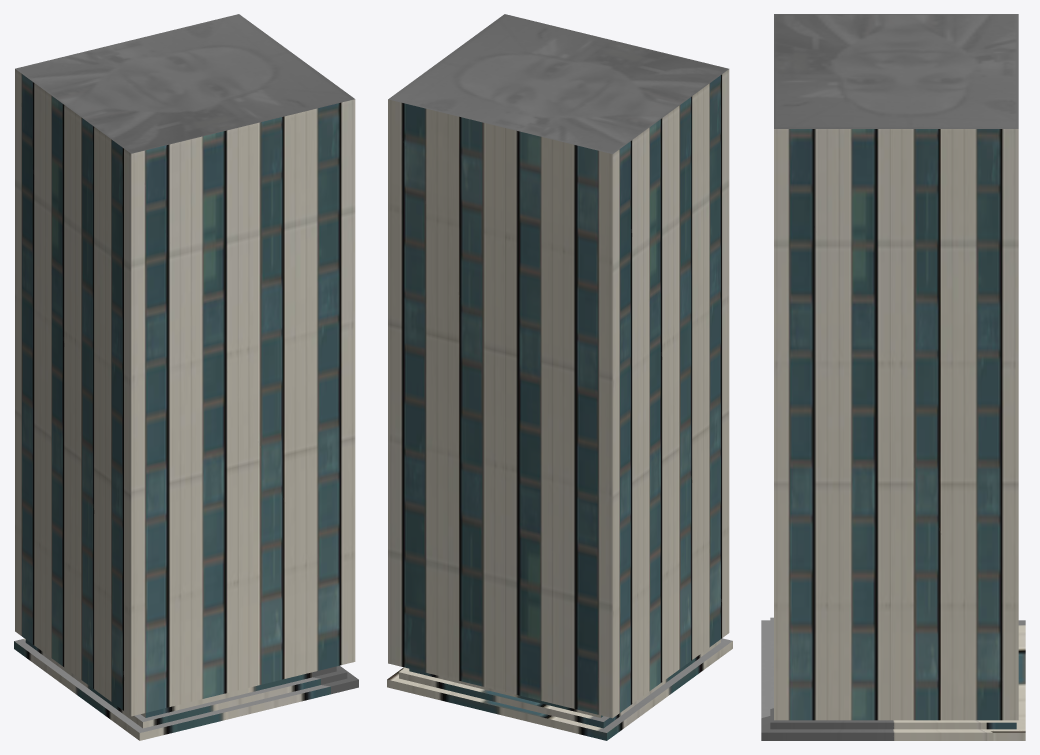
Rendered from Building2.fbx.
The picture shows the model from 3 angles, left to right: view 1: azimuth 30°, elevation 25°; view 2: azimuth 150°, elevation 25°; view 3: azimuth 270°, elevation 25°; orthographic projection. The views are drawn at different scales.
Parts seen in each view (by area): view 1: pCube1; view 2: pCube1; view 3: pCube1.
Boxes of the visible parts, x1=… form: pCube1: x1=14, y1=14, x2=358, y2=740; pCube1: x1=387, y1=14, x2=732, y2=740; pCube1: x1=761, y1=14, x2=1025, y2=740.
Size of the model in its own units: 34.44 by 85.66 by 33.45.
1 material, 1 textured.
